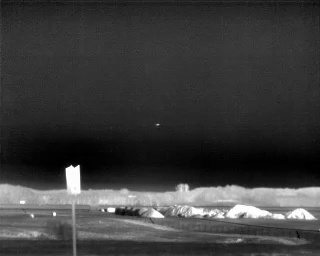BIRD: (154, 121, 162, 129)
